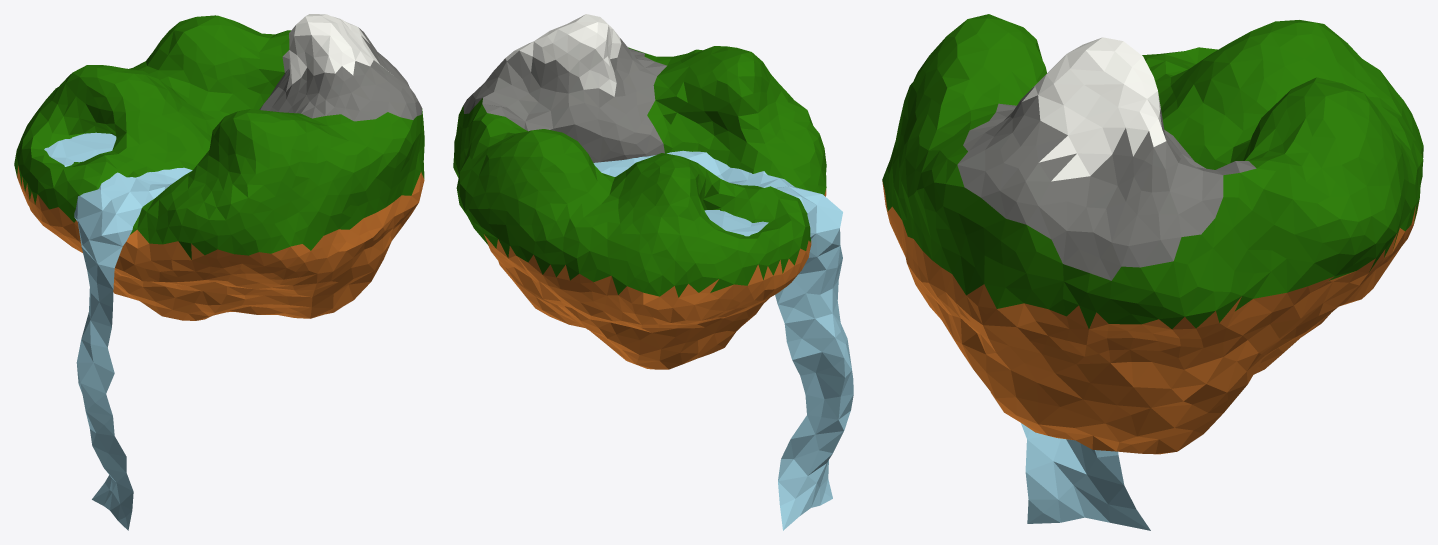
The model's file is Insel.fbx.
3 views of the same model, side by side, from view 1: azimuth 30°, elevation 25°; view 2: azimuth 150°, elevation 25°; view 3: azimuth 270°, elevation 25° (orthographic). The views are drawn at different scales.
Visible parts, largest first — view 1: Icosphere.002, Icosphere.001, Plane, Icosphere.003, Icosphere.004; view 2: Icosphere.002, Plane, Icosphere.001, Icosphere.003, Icosphere.004; view 3: Icosphere.002, Icosphere.001, Icosphere.003, Icosphere.004, Plane.
Part boxes in pixels (left/top/right/bottom): Icosphere.002: left=14, top=15, right=424, bottom=259; Icosphere.001: left=17, top=166, right=424, bottom=320; Plane: left=44, top=132, right=192, bottom=530; Icosphere.003: left=259, top=27, right=421, bottom=121; Icosphere.004: left=286, top=14, right=388, bottom=91; Icosphere.002: left=453, top=46, right=826, bottom=297; Plane: left=593, top=150, right=853, bottom=530; Icosphere.001: left=484, top=189, right=826, bottom=369; Icosphere.003: left=463, top=38, right=666, bottom=162; Icosphere.004: left=505, top=14, right=621, bottom=96; Icosphere.002: left=882, top=14, right=1423, bottom=328; Icosphere.001: left=882, top=154, right=1421, bottom=454; Icosphere.003: left=957, top=87, right=1256, bottom=280; Icosphere.004: left=1022, top=37, right=1166, bottom=181; Plane: left=1021, top=423, right=1150, bottom=530.
Size of what is drawn, in the model's own units: 2644 by 3121 by 2418.
